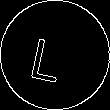L_N: (35, 27, 75, 83)
